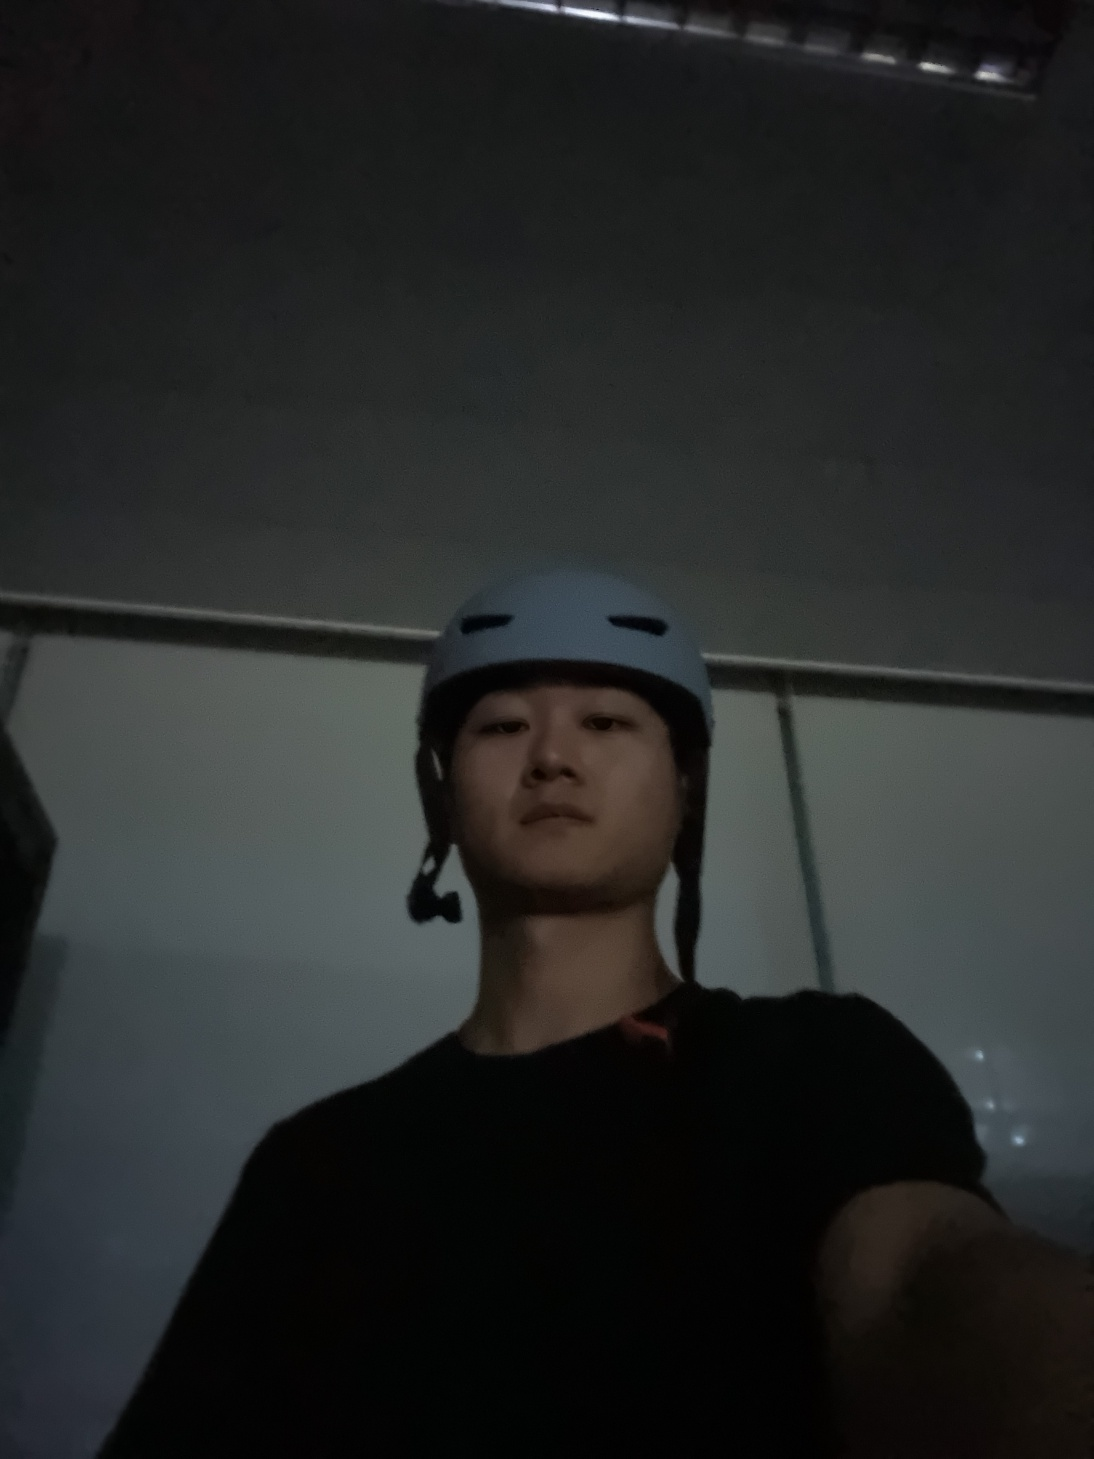Helmet: (350, 549, 772, 987)
